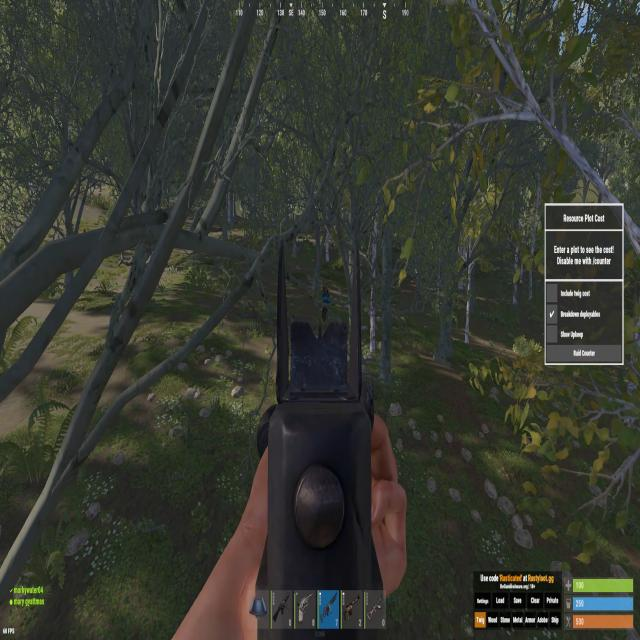Player: (320, 285, 331, 322)
